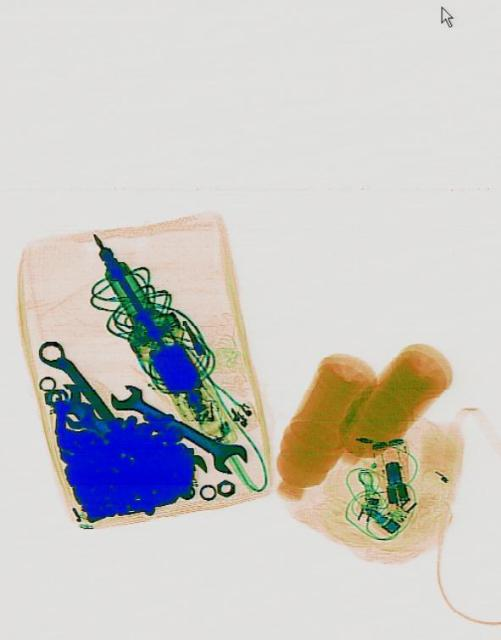Wrench: (105, 376, 249, 480), (32, 332, 117, 431), (63, 396, 120, 444), (52, 378, 102, 428)
